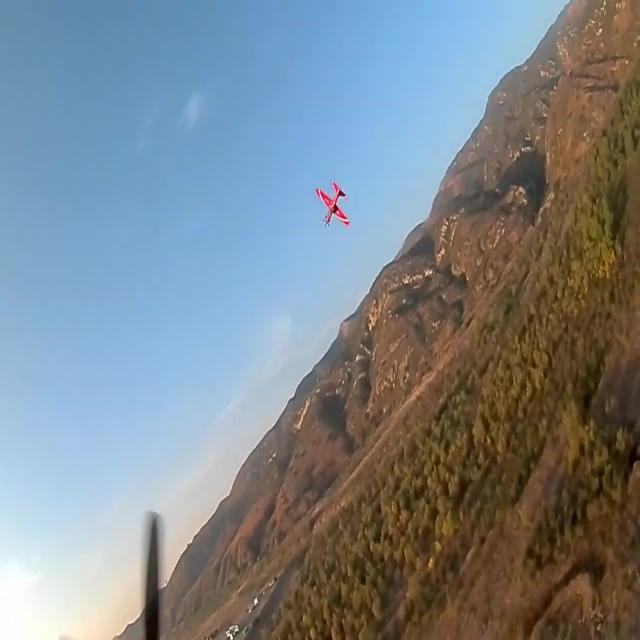iha: (315, 172, 351, 223)
